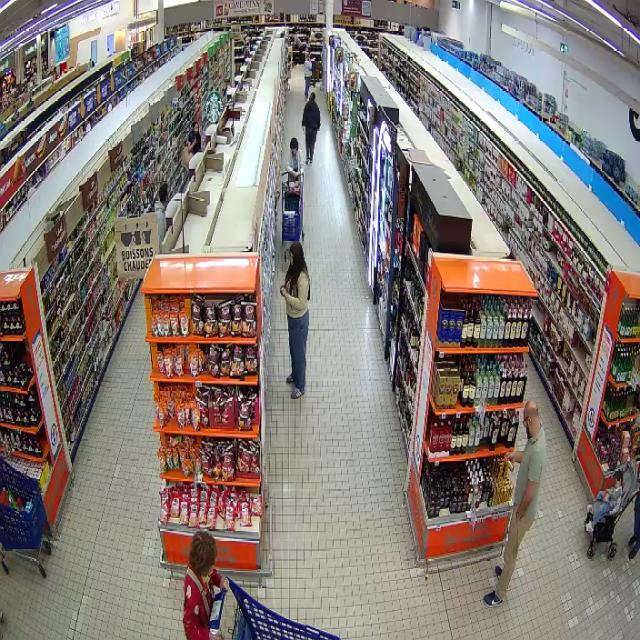article: (504, 454, 515, 471)
hands: (210, 629, 222, 639), (220, 577, 229, 589), (507, 452, 516, 462), (516, 507, 522, 520), (280, 286, 285, 296), (604, 492, 609, 501), (294, 172, 300, 178)
person: (483, 399, 545, 606), (183, 530, 228, 639), (280, 241, 309, 399), (585, 471, 621, 531), (287, 137, 305, 180)
